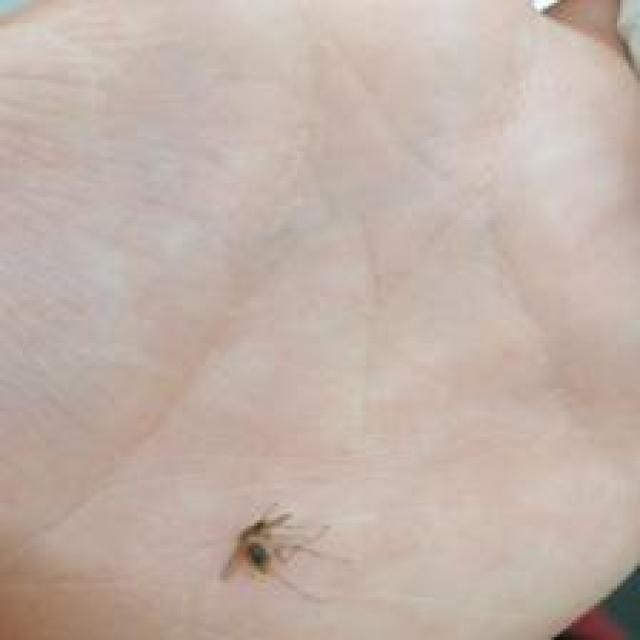Culex: (217, 500, 337, 603)
